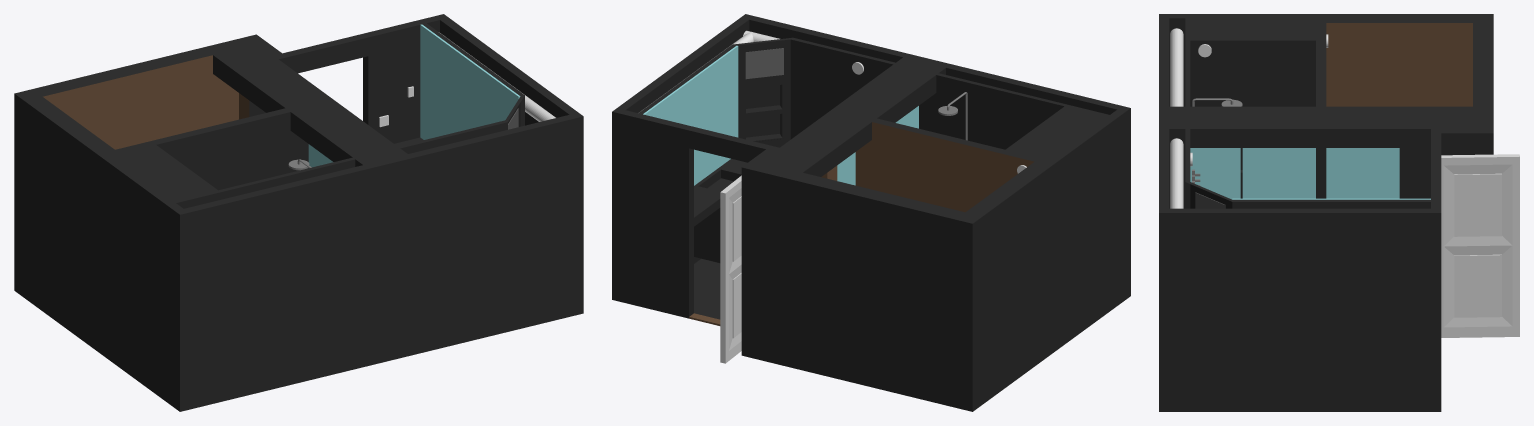
The model's file is Sparum3.glb.
The picture shows the model from 3 angles, left to right: view 1: azimuth 30°, elevation 25°; view 2: azimuth 150°, elevation 25°; view 3: azimuth 270°, elevation 25°; orthographic projection. The views are drawn at different scales.
Parts seen in each view (by area): view 1: Vägg bak yttre, Cube.005, Cube.016, Cube.012, Cube.009, Spegel, Cube.030, Cube.006, Cube.027, Cube.014, Cube.031, Vägg höger fram yttre (+3 smaller); view 2: Vägg höger fram yttre, Cube.005, Cube.030, Cube.009, Cube.012, Cube.014, Cube.037, Spegel, Vägg bak yttre, Cube.006, Cube.032, Cube.027 (+15 smaller); view 3: Cube.006, Cube.032, Cube.017, Cube.012, Cube.005, Cube.027, Plane, Cube.021, Plane.001, Vägg bak yttre, Cylinder, Cube.028 (+13 smaller).
Boxes of the visible parts, x1,y1,x2,y2 form: Vägg bak yttre: (184,115,574,409); Cube.005: (14,91,188,411); Cube.016: (28,40,257,149); Cube.012: (213,44,407,166); Cube.009: (106,108,290,190); Spegel: (420,24,520,139); Cube.030: (363,16,439,143); Cube.006: (435,14,583,315); Cube.027: (111,145,217,201); Cube.014: (174,157,355,208); Cube.031: (291,34,368,73); Vägg höger fram yttre: (23,36,252,94); Vägg höger fram yttre: (750,166,968,409); Cube.005: (964,106,1130,411); Cube.030: (620,110,693,318); Cube.009: (872,118,1047,212); Cube.012: (760,57,945,176); Cube.014: (936,73,1109,149); Cube.037: (790,37,895,139); Spegel: (643,45,738,185); Vägg bak yttre: (749,16,1121,141); Cube.006: (612,14,753,301); Cube.032: (720,175,741,363); Cube.027: (1005,106,1106,159); Cube.006: (1159,208,1441,411); Cube.032: (1441,154,1519,337); Cube.017: (1326,18,1472,106); Cube.012: (1169,106,1472,147); Cube.005: (1159,14,1493,208); Cube.027: (1190,18,1315,59); Plane: (1242,148,1315,198); Cube.021: (1326,148,1399,198); Plane.001: (1190,148,1240,199); Vägg bak yttre: (1159,18,1169,208); Cylinder: (1170,28,1183,208); Cube.028: (1232,199,1430,208).
Bounding box in the file's own units: 4.5 × 2.1 × 3.45.
